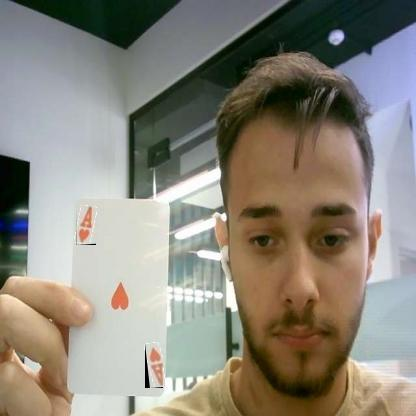AH: (146, 343, 164, 388), (76, 206, 96, 245)
